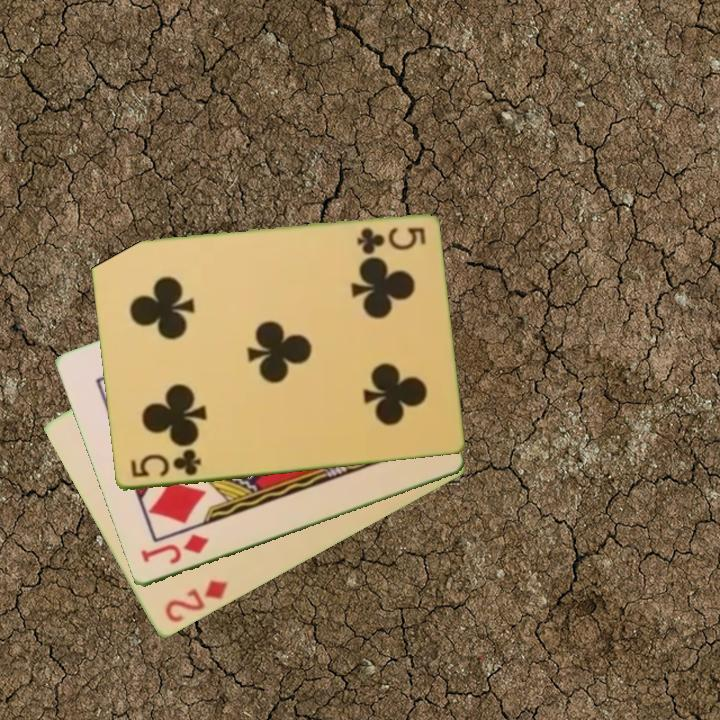2d: (161, 576, 231, 626)
5c: (126, 446, 204, 481), (353, 224, 428, 254)
Jd: (137, 530, 212, 568)
